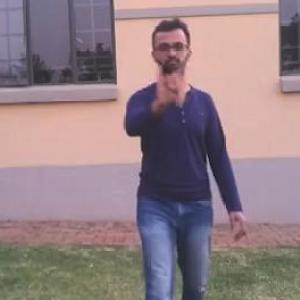takeoff-hand: (147, 54, 185, 106)
